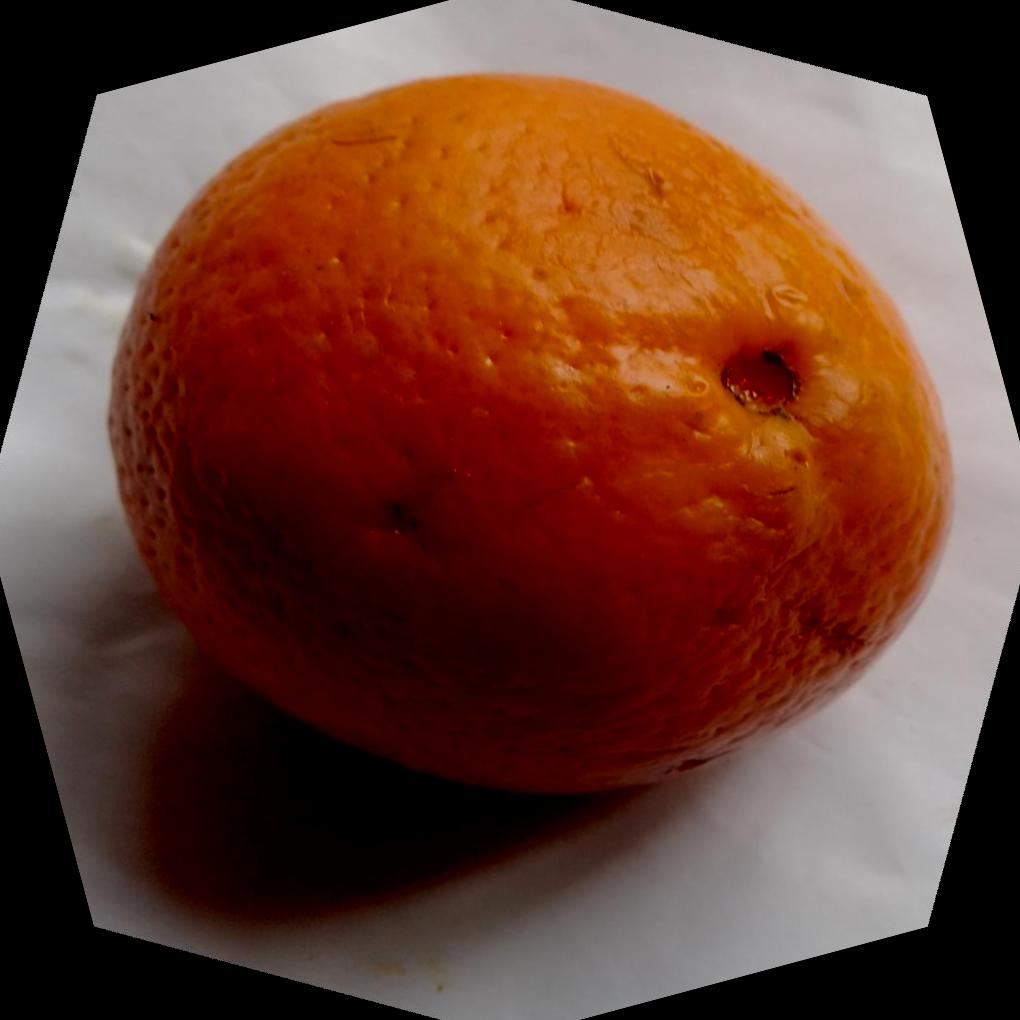FreshOrange: (107, 68, 959, 801)
